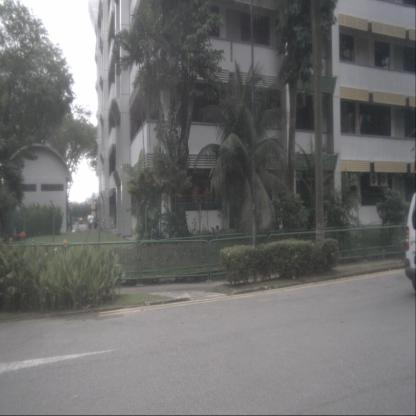vehicle-car: (88, 215, 97, 229), (87, 215, 94, 225)
